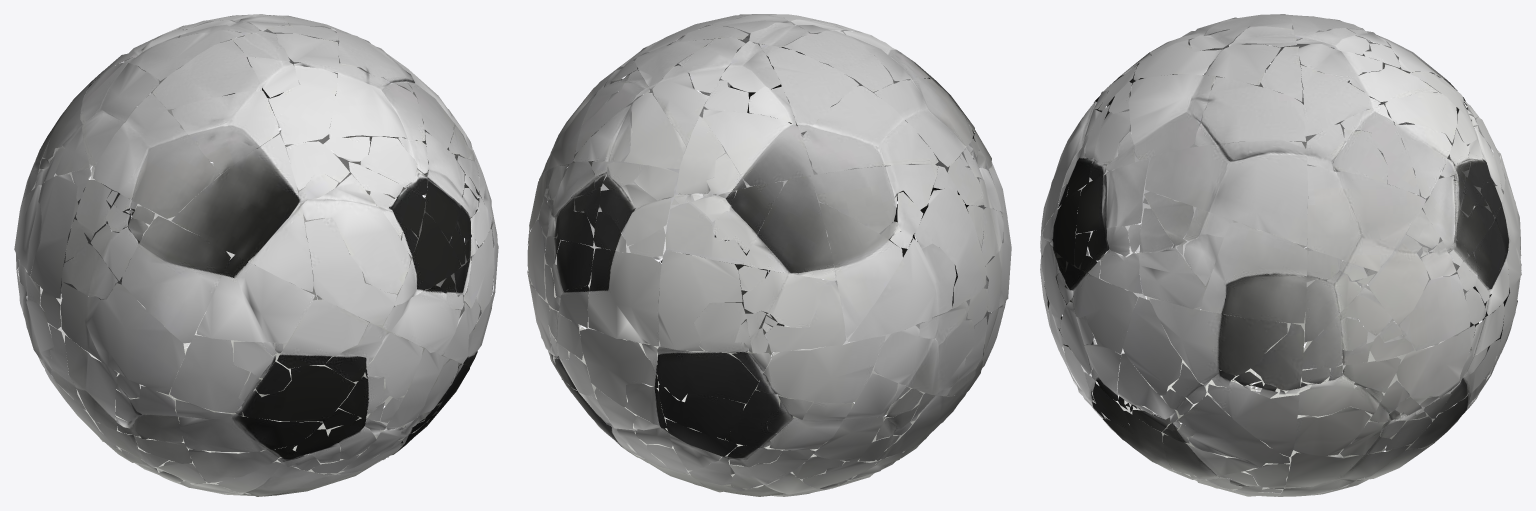
The model's file is balon.glb.
3 renders of one model, left to right at view 1: azimuth 30°, elevation 25°; view 2: azimuth 150°, elevation 25°; view 3: azimuth 270°, elevation 25°, orthographic.
Parts seen in each view (by area): view 1: mesh_node; view 2: mesh_node; view 3: mesh_node.
Part boxes in pixels (x1=…): mesh_node: x1=14, y1=14, x2=498, y2=496; mesh_node: x1=527, y1=14, x2=1011, y2=496; mesh_node: x1=1040, y1=14, x2=1521, y2=496.
Size of the model in its own units: 1.91 by 1.9 by 1.91.
1 material, 1 textured.
